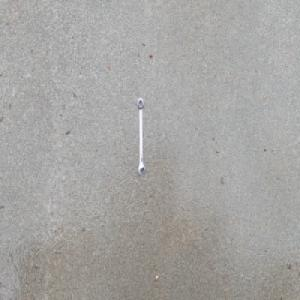Wrench: (136, 96, 144, 177)
